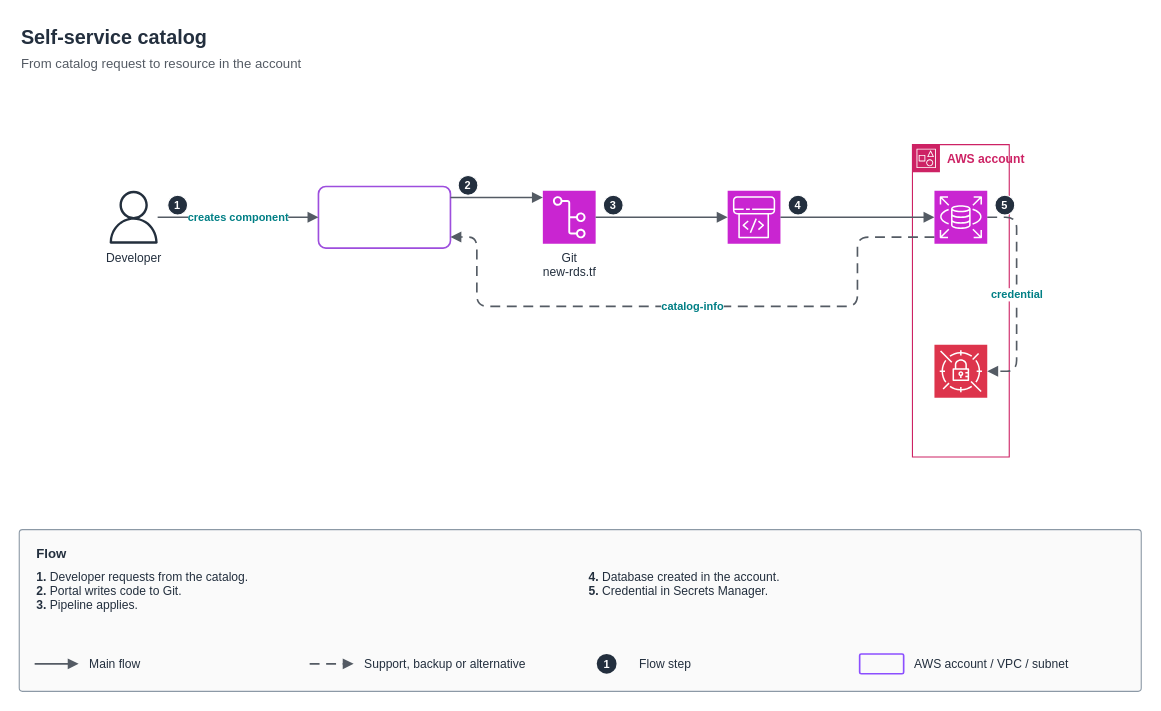
The diagram is 1161 pixels wide and 711 high, and some of its shapes have lost their labels. Here are the shapes that lost their labels. From the top down, the centre of each, then its label:
pixel 384 216: Backstage catalog
pixel 753 217: CI/CD terraform apply
pixel 960 217: RDS
pixel 960 371: Secrets Manager
